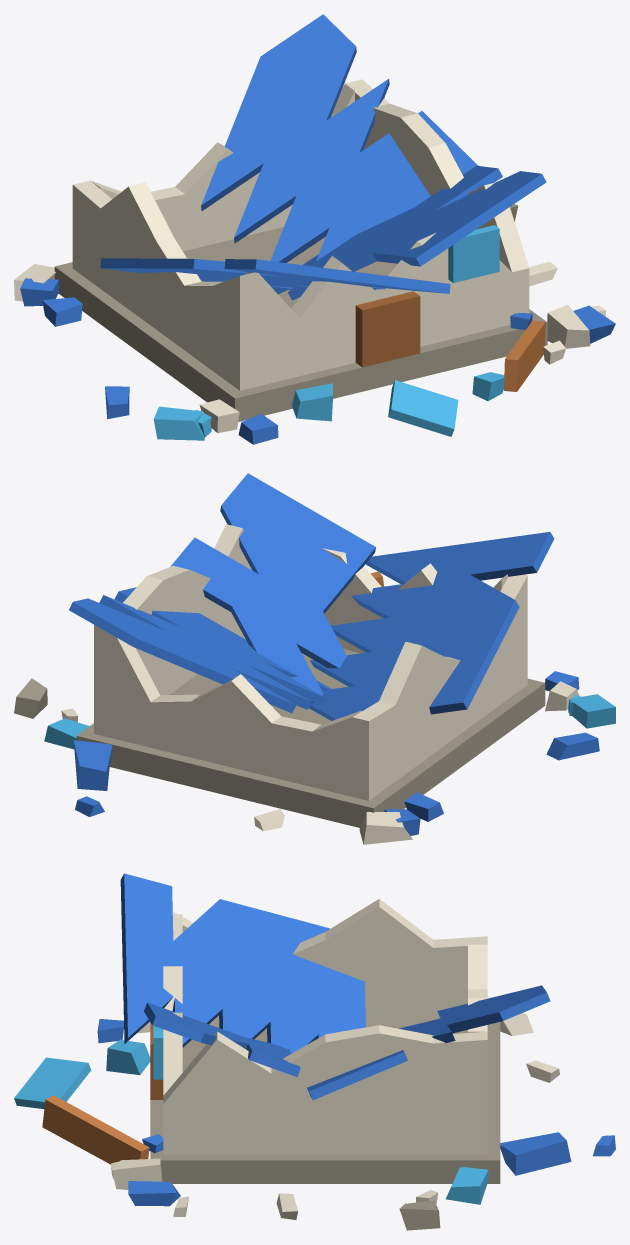
Rendered from house_t1_v4_dmg2.glb.
3 views of the same model, one above another, from view 1: azimuth 30°, elevation 25°; view 2: azimuth 150°, elevation 25°; view 3: azimuth 270°, elevation 25° (orthographic). The views are drawn at different scales.
Visible parts, largest first — view 1: house_t1_v4_dmg2; view 2: house_t1_v4_dmg2; view 3: house_t1_v4_dmg2.
Boxes of the visible parts, bbox=[...] form: house_t1_v4_dmg2: bbox=[14, 14, 615, 444]; house_t1_v4_dmg2: bbox=[14, 473, 615, 844]; house_t1_v4_dmg2: bbox=[14, 873, 615, 1230].
Bounding box in the file's own units: 0.8714 × 0.3098 × 0.9281.
Materials: 1 (1 with a texture image).
